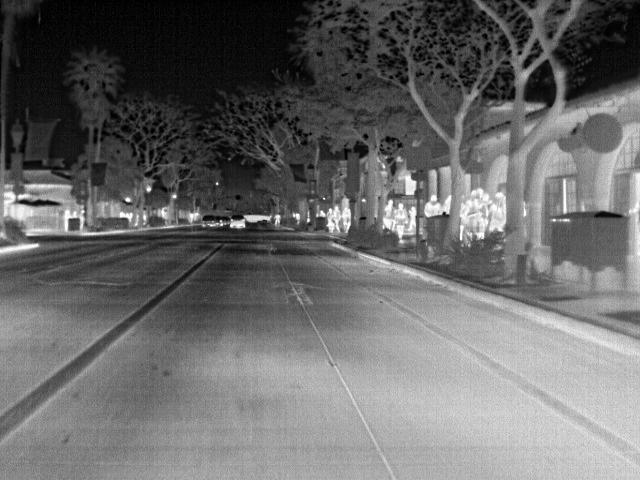car: (228, 214, 248, 230), (201, 214, 217, 228)
person: (490, 191, 508, 237), (395, 203, 409, 244), (421, 195, 442, 217), (381, 197, 394, 230), (405, 204, 418, 232), (340, 202, 352, 232), (331, 204, 343, 232), (60, 207, 73, 230)
